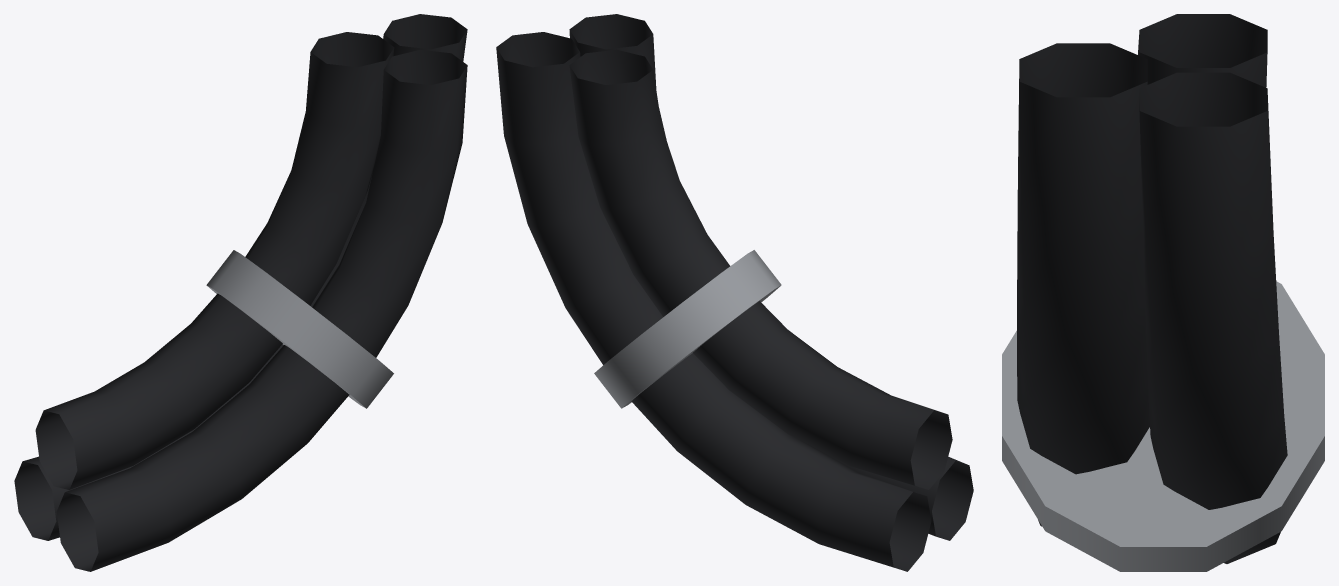
Rendered from bend_up_west.obj.
3 views of the same model, side by side, from view 1: azimuth 30°, elevation 25°; view 2: azimuth 150°, elevation 25°; view 3: azimuth 270°, elevation 25° (orthographic). The views are drawn at different scales.
Visible parts, largest first — view 1: bend_up_west; view 2: bend_up_west; view 3: bend_up_west.
Boxes of the visible parts, left/top/right/bottom form: bend_up_west: left=14, top=14, right=467, bottom=571; bend_up_west: left=496, top=14, right=973, bottom=571; bend_up_west: left=1002, top=14, right=1324, bottom=571.
Size of the model in its own units: 0.6022 by 0.5833 by 0.2475.
